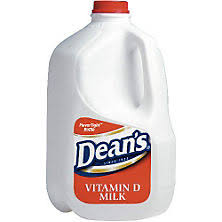milk: (47, 1, 177, 218)
